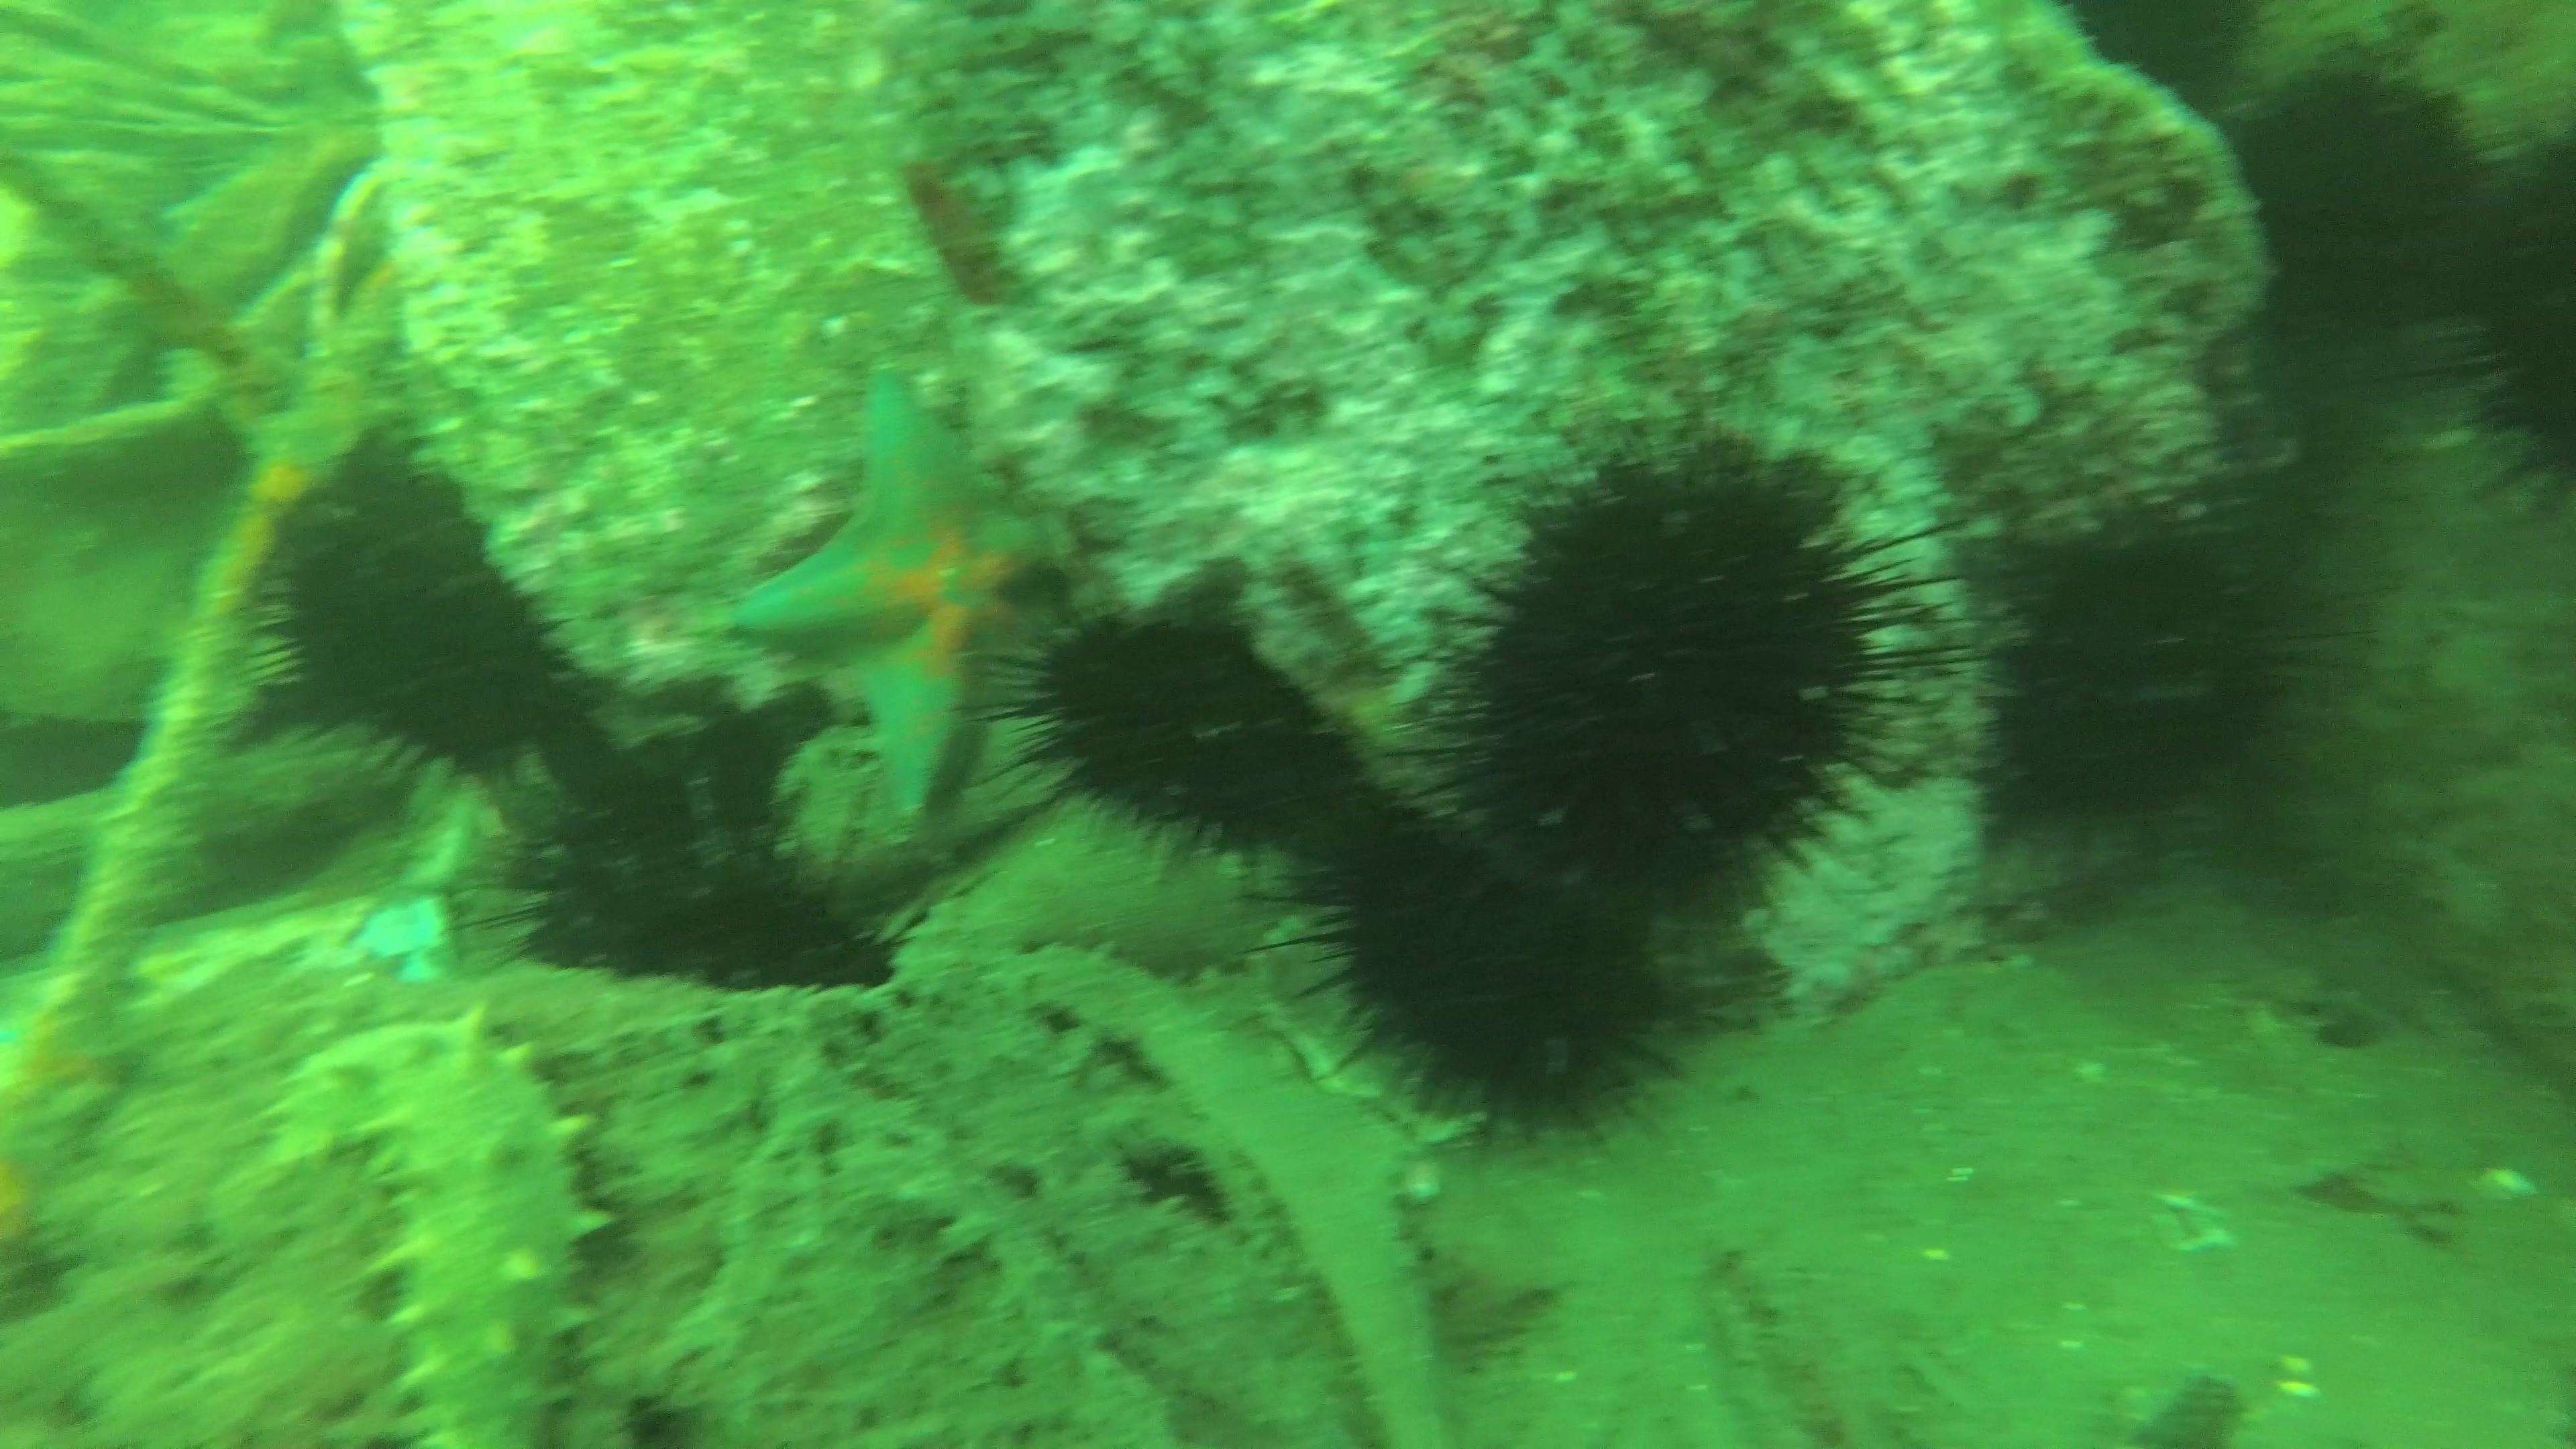echinus: (1401, 405, 1960, 952), (939, 589, 1428, 902), (449, 695, 904, 1007), (225, 444, 630, 793), (1966, 478, 2353, 835), (1270, 823, 1686, 1131), (2220, 60, 2505, 347), (2424, 129, 2576, 513), (2059, 0, 2261, 99)
holothurian: (278, 1024, 619, 1449)
starfish: (695, 361, 1138, 810)
